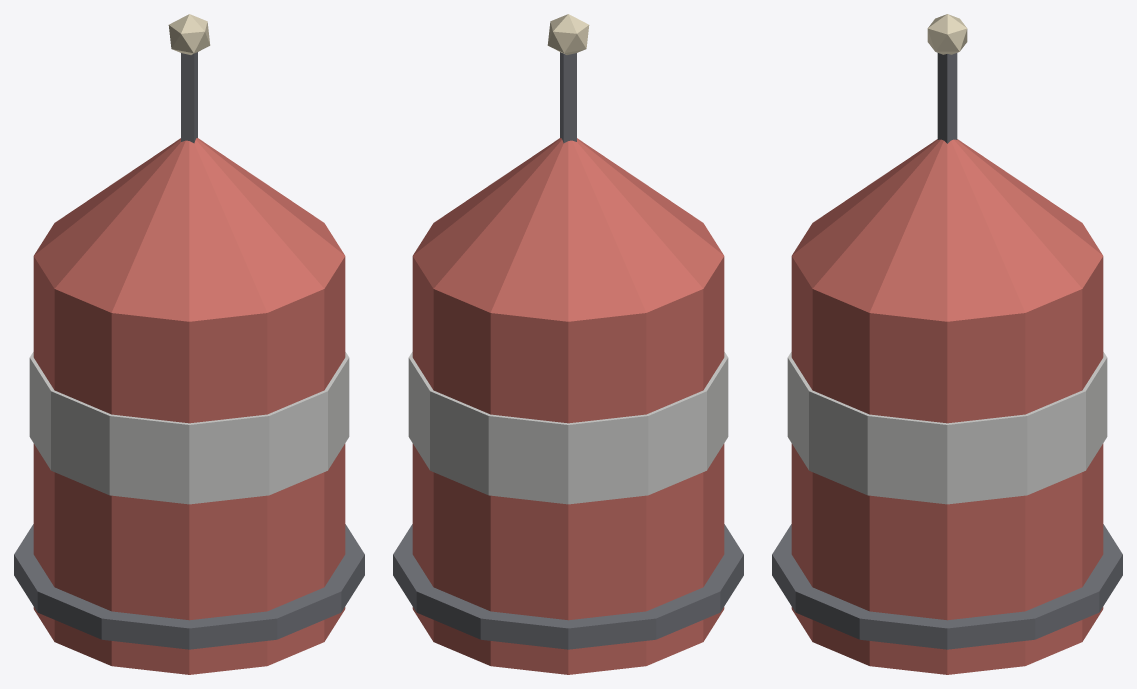
Rendered from Buoy.glb.
3 views of the same model, side by side, from view 1: azimuth 30°, elevation 25°; view 2: azimuth 150°, elevation 25°; view 3: azimuth 270°, elevation 25° (orthographic).
Visible parts, largest first — view 1: Buoy; view 2: Buoy; view 3: Buoy.
Boxes of the visible parts, left/top/right/bottom form: Buoy: left=14, top=14, right=364, bottom=674; Buoy: left=393, top=14, right=743, bottom=674; Buoy: left=772, top=14, right=1122, bottom=674.
Bounding box in the file's own units: 1.8 × 3.37 × 1.8.
